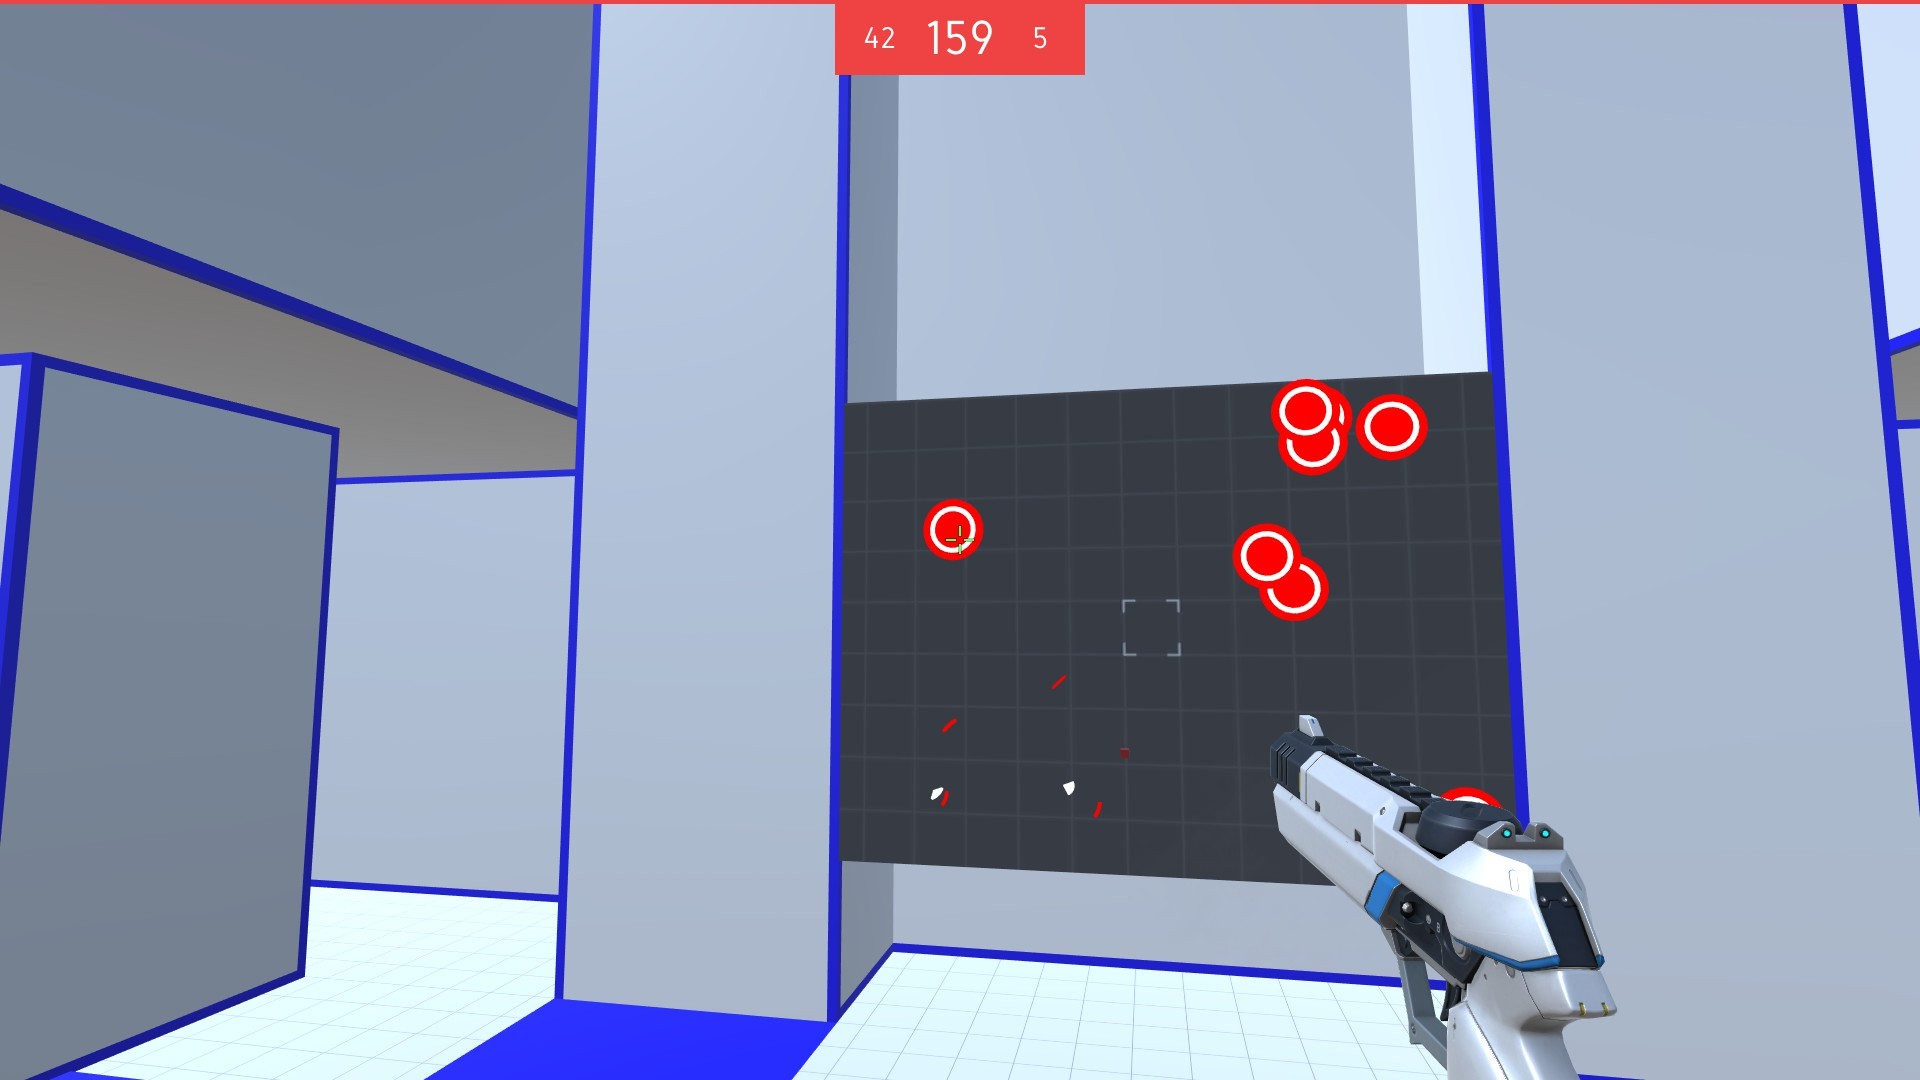target: (1258, 550, 1335, 626), (1356, 393, 1429, 460), (1270, 422, 1348, 481), (1266, 381, 1340, 442), (1236, 520, 1299, 589), (924, 495, 988, 563)
